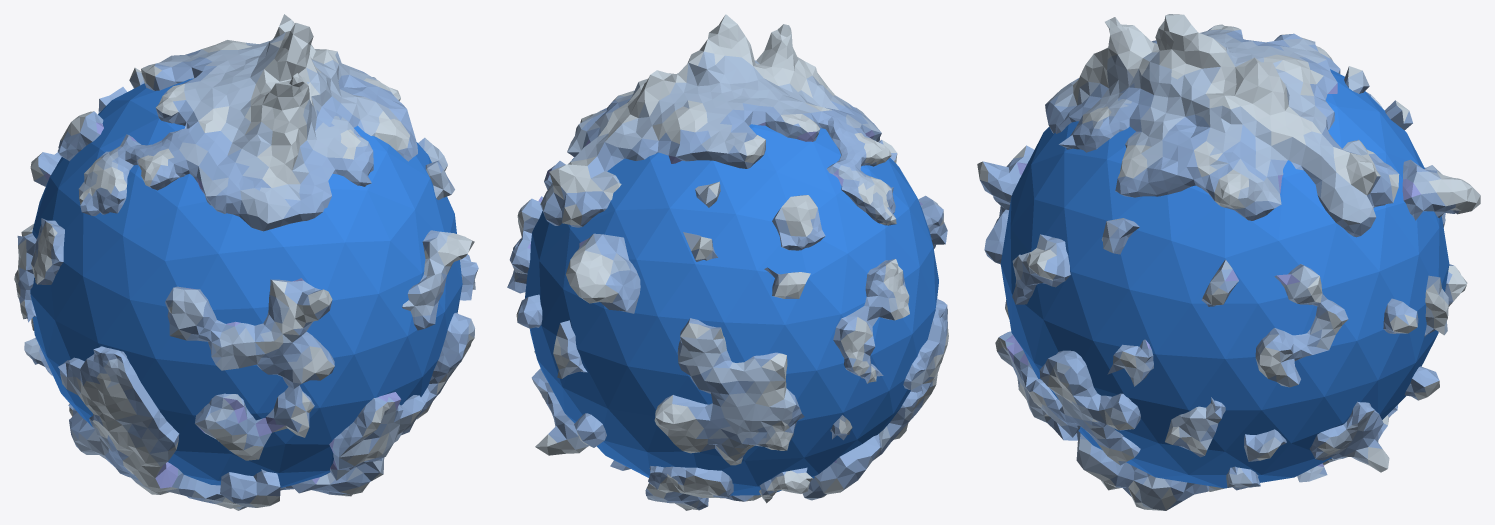
The model's file is icePlanet.fbx.
The picture shows the model from 3 angles, left to right: view 1: azimuth 30°, elevation 25°; view 2: azimuth 150°, elevation 25°; view 3: azimuth 270°, elevation 25°; orthographic projection. The views are drawn at different scales.
Parts seen in each view (by area): view 1: Ice.Planet, Ice.Water; view 2: Ice.Water, Ice.Planet; view 3: Ice.Water, Ice.Planet.
Part boxes in pixels (x1,y1,x2,y2): Ice.Planet: [14, 14, 478, 510]; Ice.Water: [30, 78, 462, 487]; Ice.Water: [525, 124, 938, 495]; Ice.Planet: [507, 14, 948, 510]; Ice.Water: [1000, 69, 1449, 488]; Ice.Planet: [977, 14, 1480, 510].
Size of the model in its own units: 22722 by 25969 by 23913.
